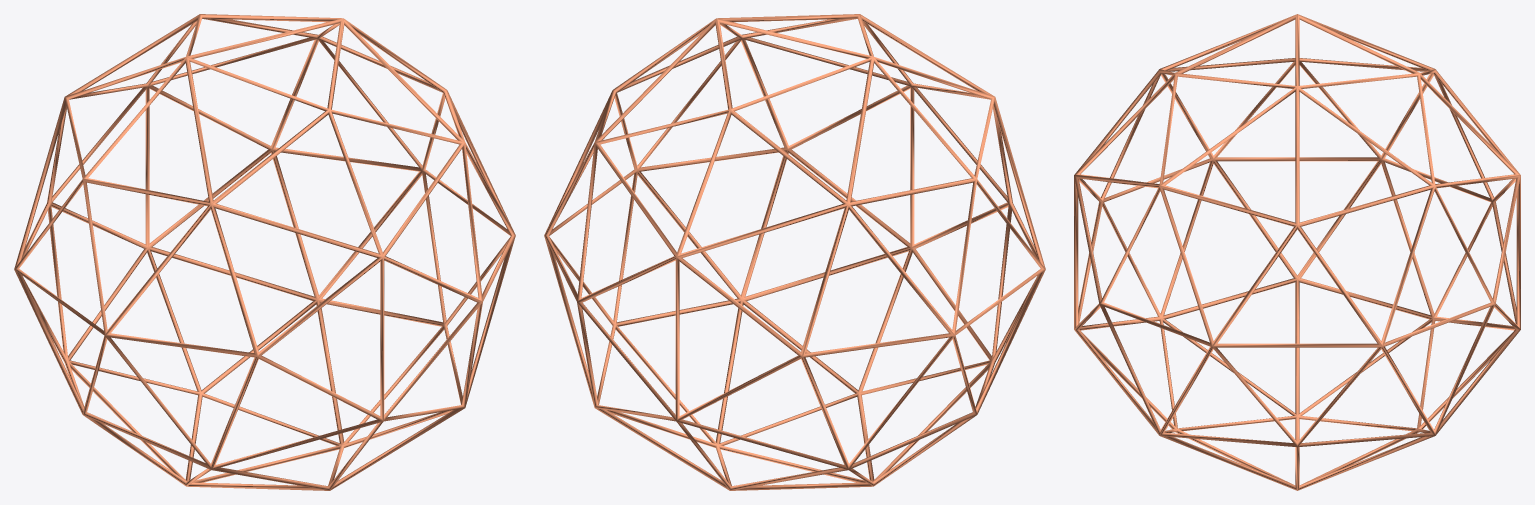
The model's file is PentakisDodecahedron1.glb.
The picture shows the model from 3 angles, left to right: view 1: azimuth 30°, elevation 25°; view 2: azimuth 150°, elevation 25°; view 3: azimuth 270°, elevation 25°; orthographic projection. The views are drawn at different scales.
Parts seen in each view (by area): view 1: PentakisDodecahedron; view 2: PentakisDodecahedron; view 3: PentakisDodecahedron.
Boxes of the visible parts, left/top/right/bottom form: PentakisDodecahedron: left=14, top=14, right=515, bottom=490; PentakisDodecahedron: left=544, top=14, right=1045, bottom=490; PentakisDodecahedron: left=1074, top=14, right=1520, bottom=490.
Bounding box in the file's own units: 4.9 × 4.9 × 4.9.
